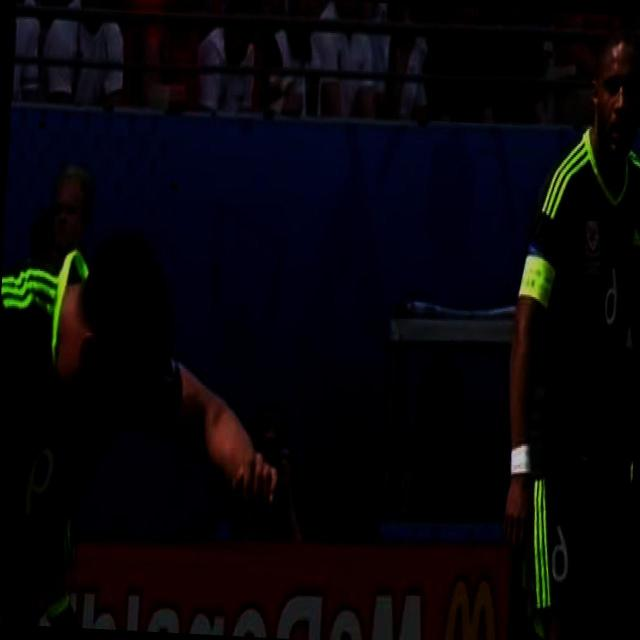player-white: (0, 0, 230, 633), (0, 228, 291, 638), (494, 23, 640, 640), (0, 166, 124, 629)
